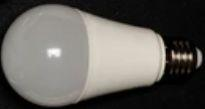light bulb: (0, 2, 205, 108)
